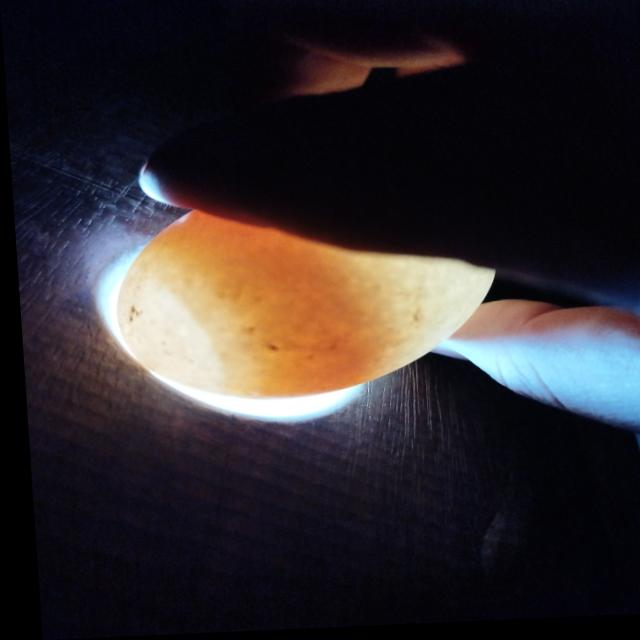Camara de Ar: (112, 268, 217, 393)
Gema Quebrada: (151, 213, 373, 399)
